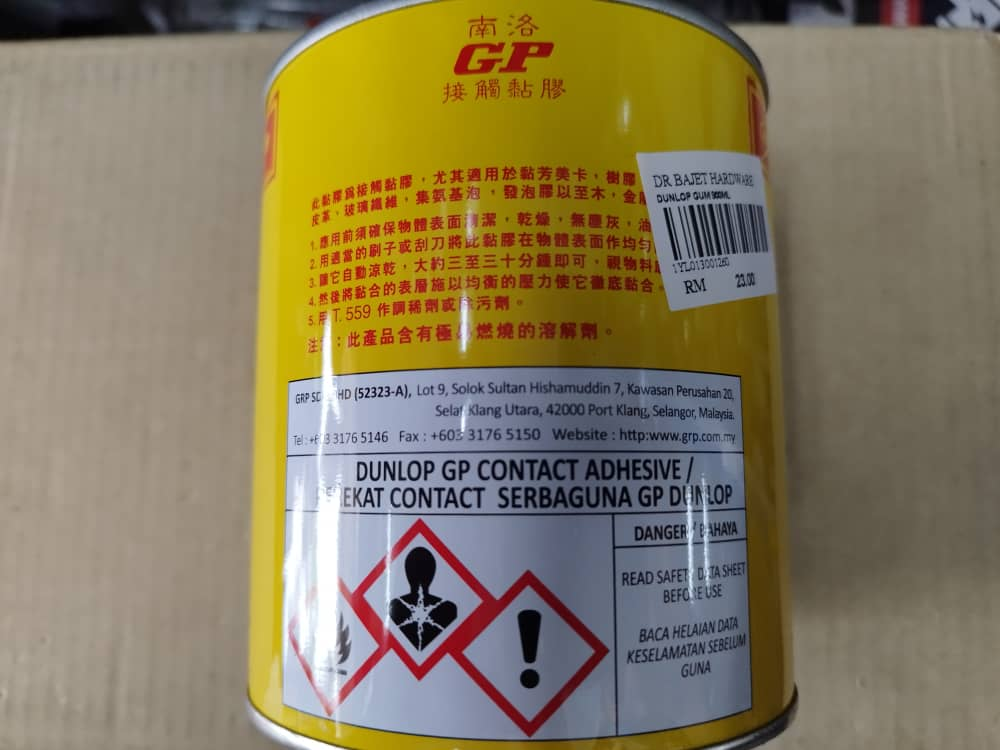sku_glue: (254, 11, 816, 740)
